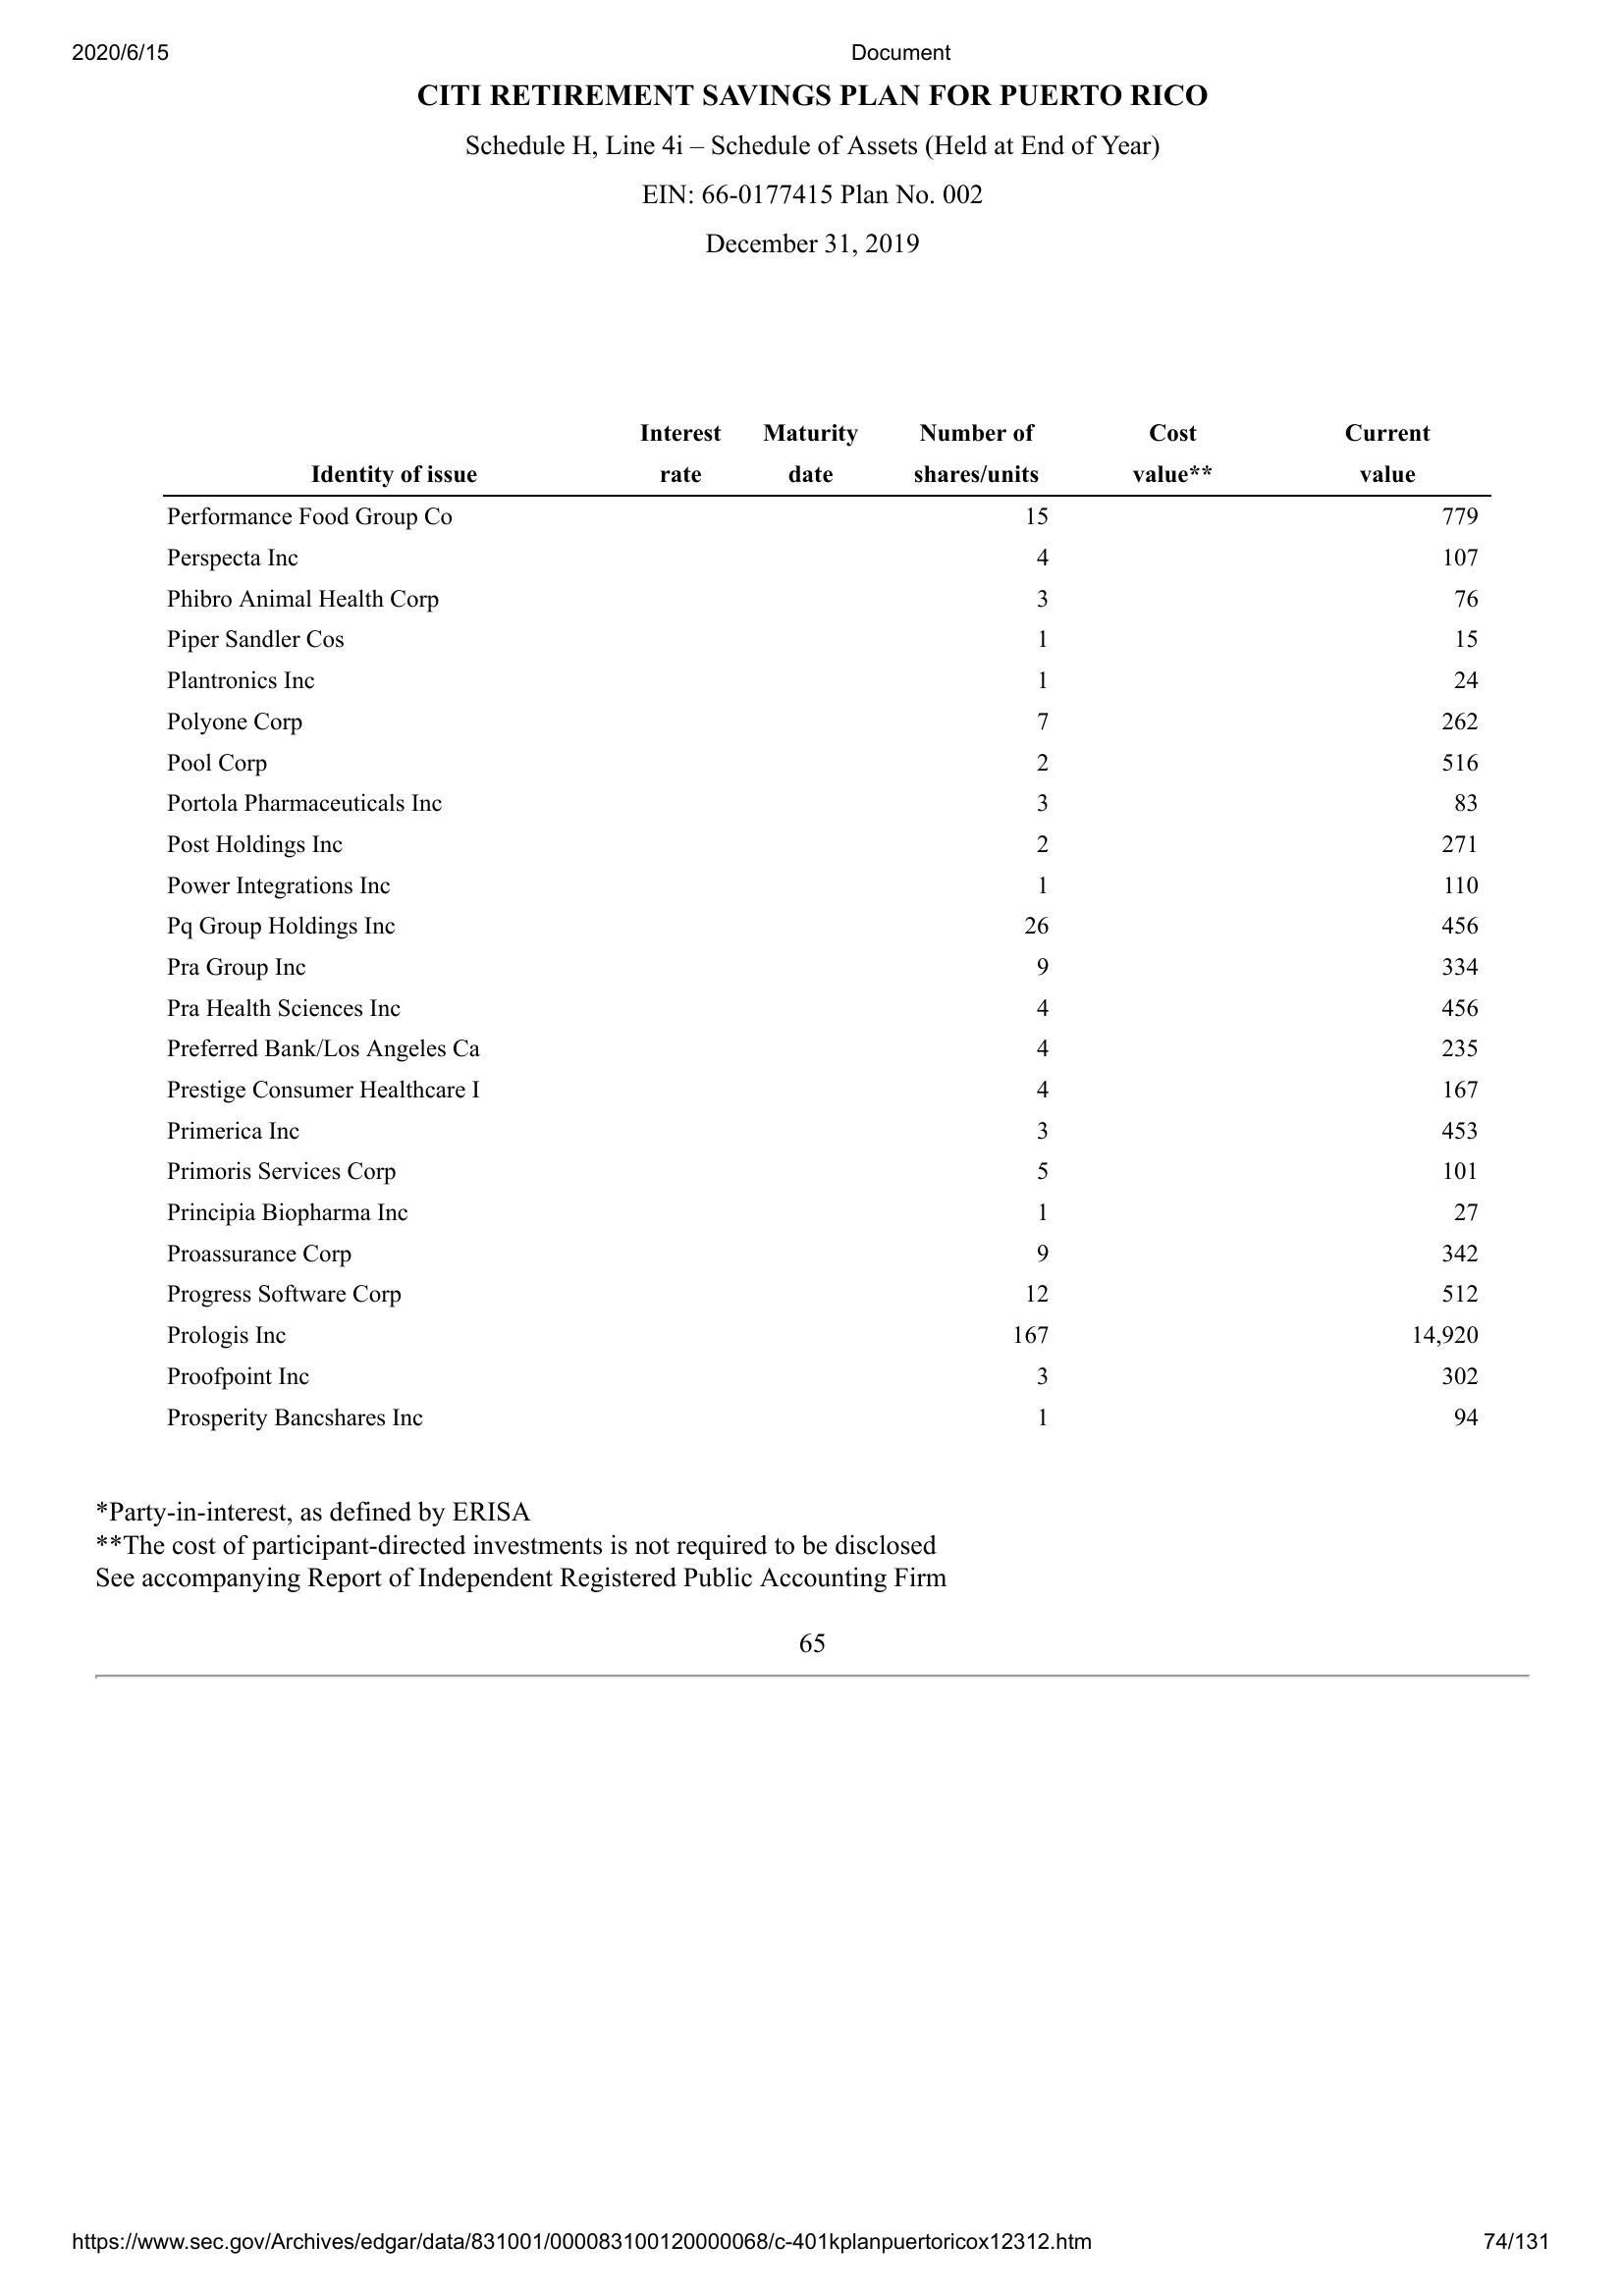table: (163, 423, 1495, 1445)
